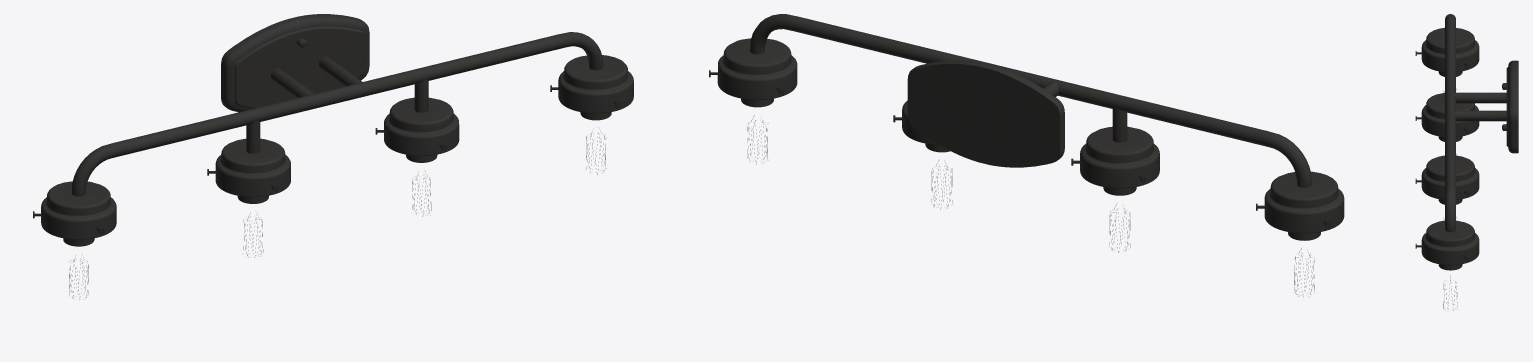
Rendered from abo-B07B4SC6PQ.glb.
3 views of the same model, side by side, from view 1: azimuth 30°, elevation 25°; view 2: azimuth 150°, elevation 25°; view 3: azimuth 270°, elevation 25° (orthographic). The views are drawn at different scales.
Size of the model in its own units: 0.838 by 0.2919 by 0.177.
Materials: 1 (1 with a texture image).
